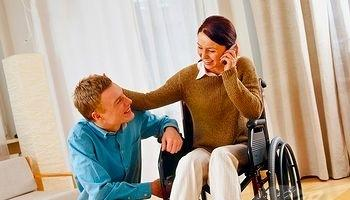person: (120, 15, 262, 200)
